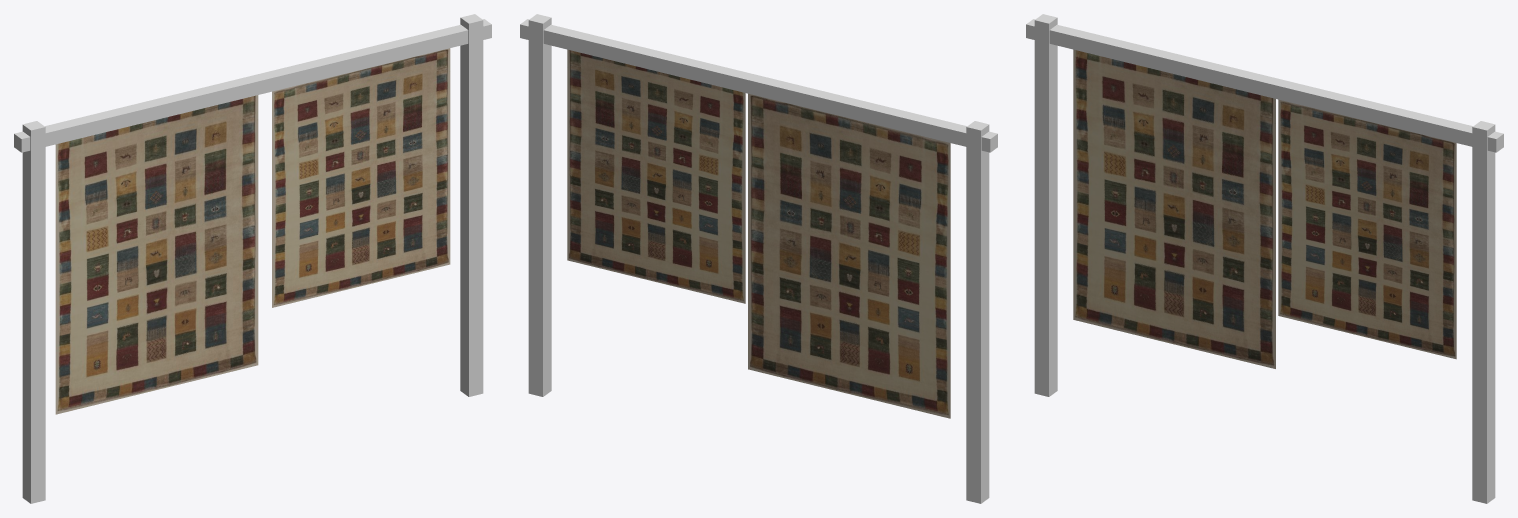
The model's file is vc_rugframe.glb.
3 views of the same model, side by side, from view 1: azimuth 30°, elevation 25°; view 2: azimuth 150°, elevation 25°; view 3: azimuth 330°, elevation 25° (orthographic).
Parts seen in each view (by area): view 1: rugframe; view 2: rugframe; view 3: rugframe.
Part boxes in pixels (box(x1,y1,x2,y2)): rugframe: box(14, 14, 491, 503); rugframe: box(520, 14, 997, 503); rugframe: box(1026, 14, 1503, 503).
Bounding box in the file's own units: 2.9 × 2.2 × 0.09.
2 materials, 1 textured.
